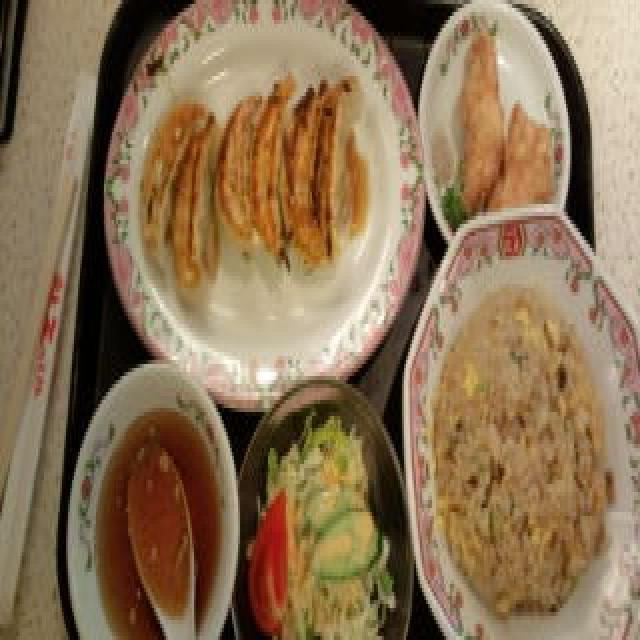Green Salad: (246, 416, 373, 640)
